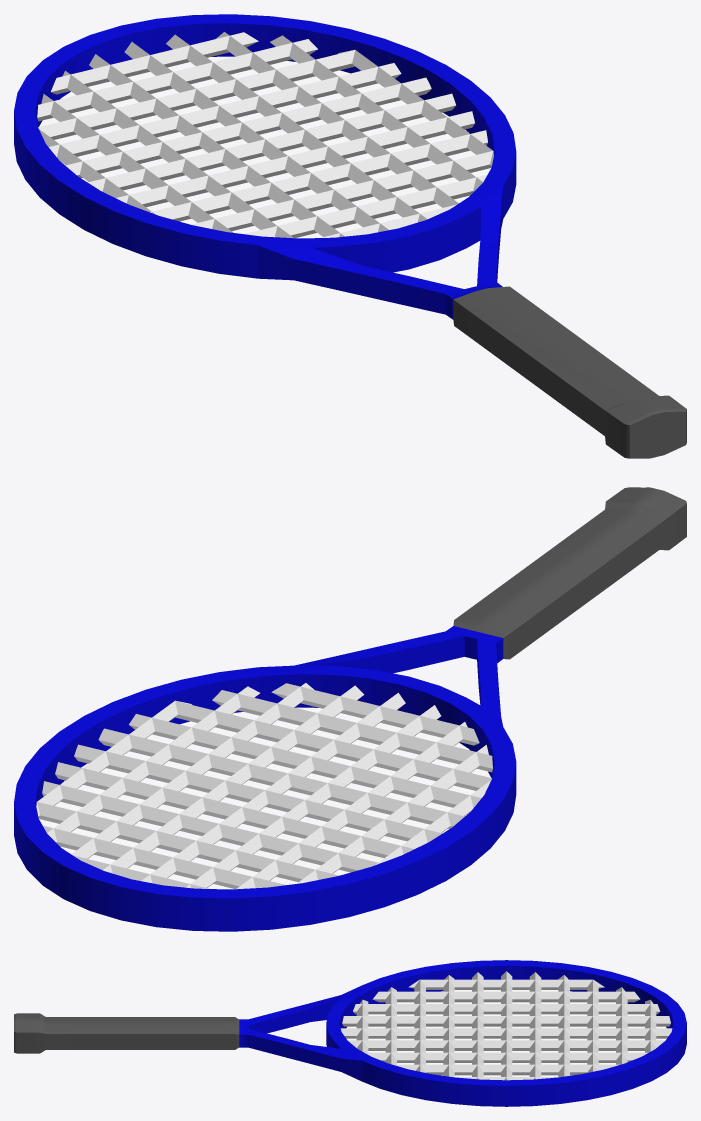
The model's file is Tennis_racket_Blue_01.fbx.
3 views of the same model, one above another, from view 1: azimuth 30°, elevation 25°; view 2: azimuth 150°, elevation 25°; view 3: azimuth 270°, elevation 25° (orthographic). The views are drawn at different scales.
Parts seen in each view (by area): view 1: Tennis_racket_01, Line_01; view 2: Tennis_racket_01, Line_01; view 3: Tennis_racket_01, Line_01.
Boxes of the visible parts, x1=… form: Tennis_racket_01: x1=14, y1=14, x2=686, y2=458; Line_01: x1=37, y1=32, x2=493, y2=238; Tennis_racket_01: x1=14, y1=487, x2=686, y2=931; Line_01: x1=36, y1=683, x2=492, y2=889; Tennis_racket_01: x1=14, y1=960, x2=686, y2=1106; Line_01: x1=341, y1=971, x2=672, y2=1080.
Bounding box in the file's own units: 5.17 × 0.5667 × 11.68.
